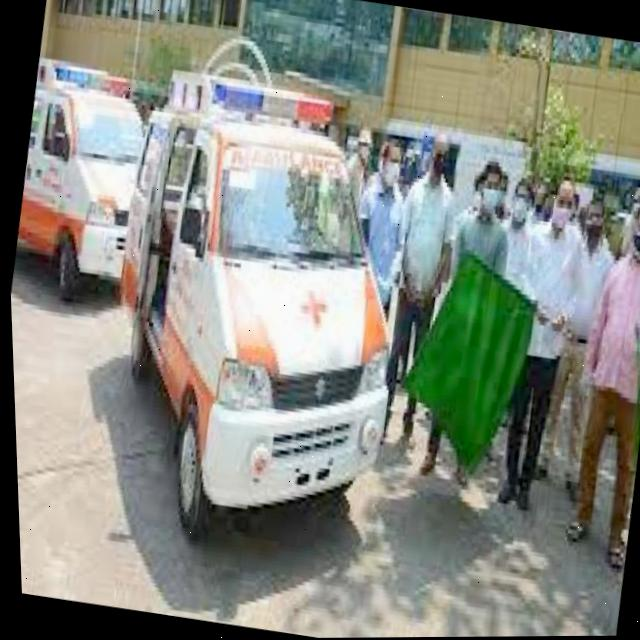emergency: (129, 65, 436, 561), (8, 37, 160, 307)
